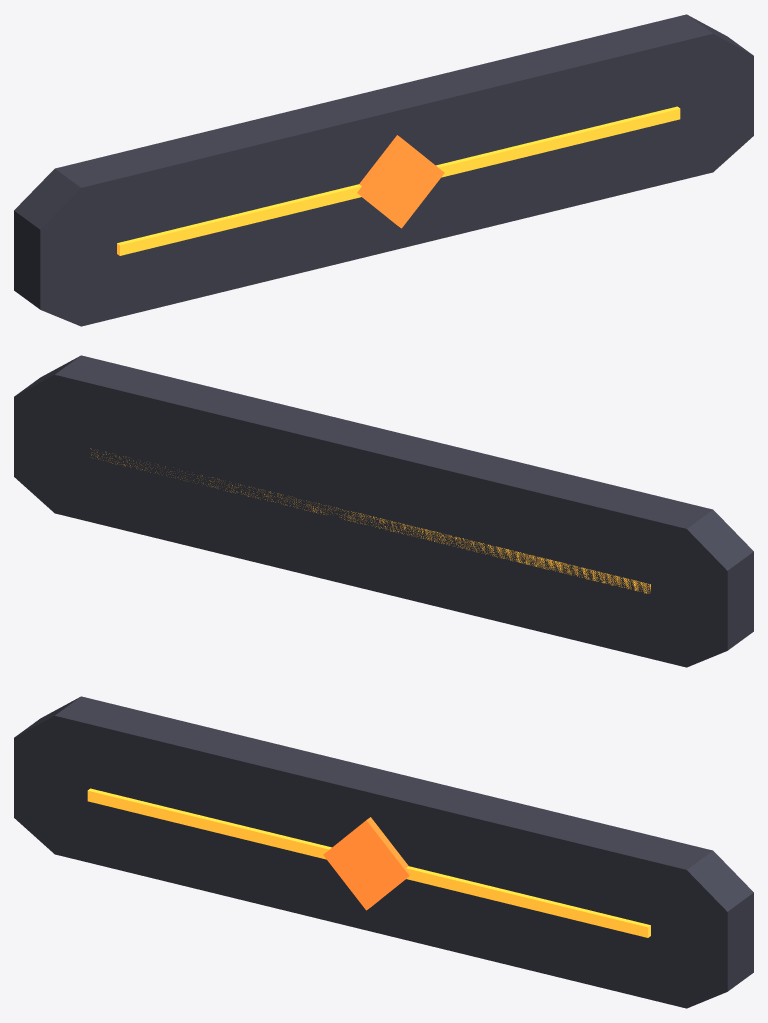
File: kit_amber_doorway_head.glb
3 renders of one model, top to bottom at view 1: azimuth 30°, elevation 25°; view 2: azimuth 150°, elevation 25°; view 3: azimuth 330°, elevation 25°, orthographic.
Parts seen in each view (by area): view 1: kit_amber_doorway_head; view 2: kit_amber_doorway_head; view 3: kit_amber_doorway_head.
Part boxes in pixels (box(x1,y1,x2,y2)): kit_amber_doorway_head: box(14, 14, 753, 326); kit_amber_doorway_head: box(14, 355, 753, 667); kit_amber_doorway_head: box(14, 696, 753, 1008).
Bounding box in the file's own units: 1.4 × 0.26 × 0.105.
